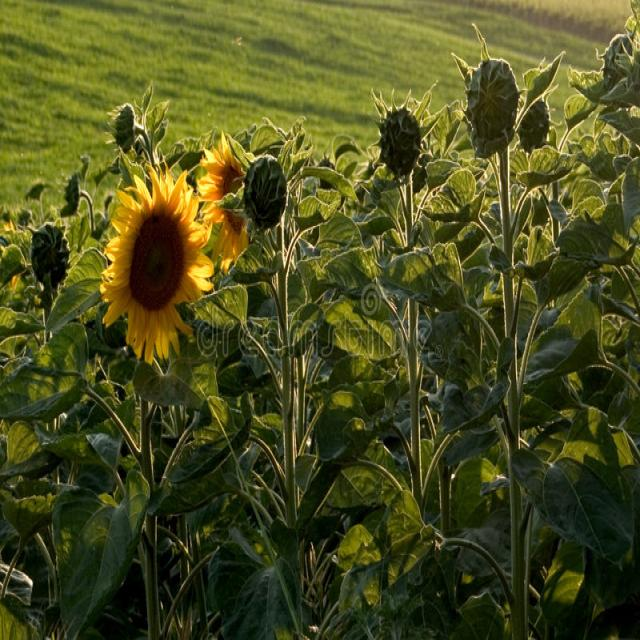sunflower: (99, 163, 212, 384), (200, 132, 253, 277)
